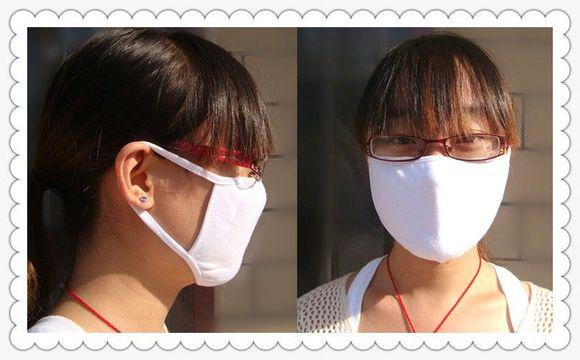OK: (369, 105, 512, 257), (127, 139, 266, 287)
